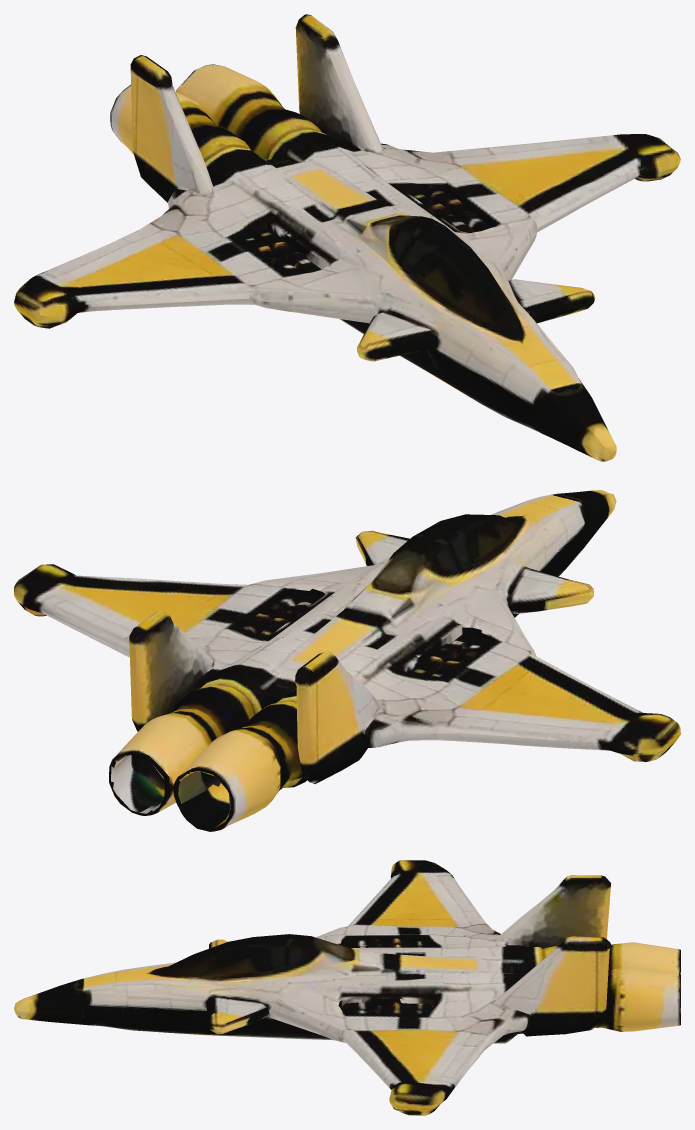
File: hornet.glb
The picture shows the model from 3 angles, top to bottom: view 1: azimuth 30°, elevation 25°; view 2: azimuth 150°, elevation 25°; view 3: azimuth 270°, elevation 25°; orthographic projection. The views are drawn at different scales.
Parts seen in each view (by area): view 1: 1345c851-574c-48a0-8056-a5bb0c657813_texturing.obj; view 2: 1345c851-574c-48a0-8056-a5bb0c657813_texturing.obj; view 3: 1345c851-574c-48a0-8056-a5bb0c657813_texturing.obj.
Part boxes in pixels (x1,y1,x2,y2): 1345c851-574c-48a0-8056-a5bb0c657813_texturing.obj: [14, 14, 680, 461]; 1345c851-574c-48a0-8056-a5bb0c657813_texturing.obj: [14, 490, 680, 831]; 1345c851-574c-48a0-8056-a5bb0c657813_texturing.obj: [14, 860, 680, 1115].
Size of the model in its own units: 1.7 by 0.3884 by 1.99.
Materials: 1 (1 with a texture image).
